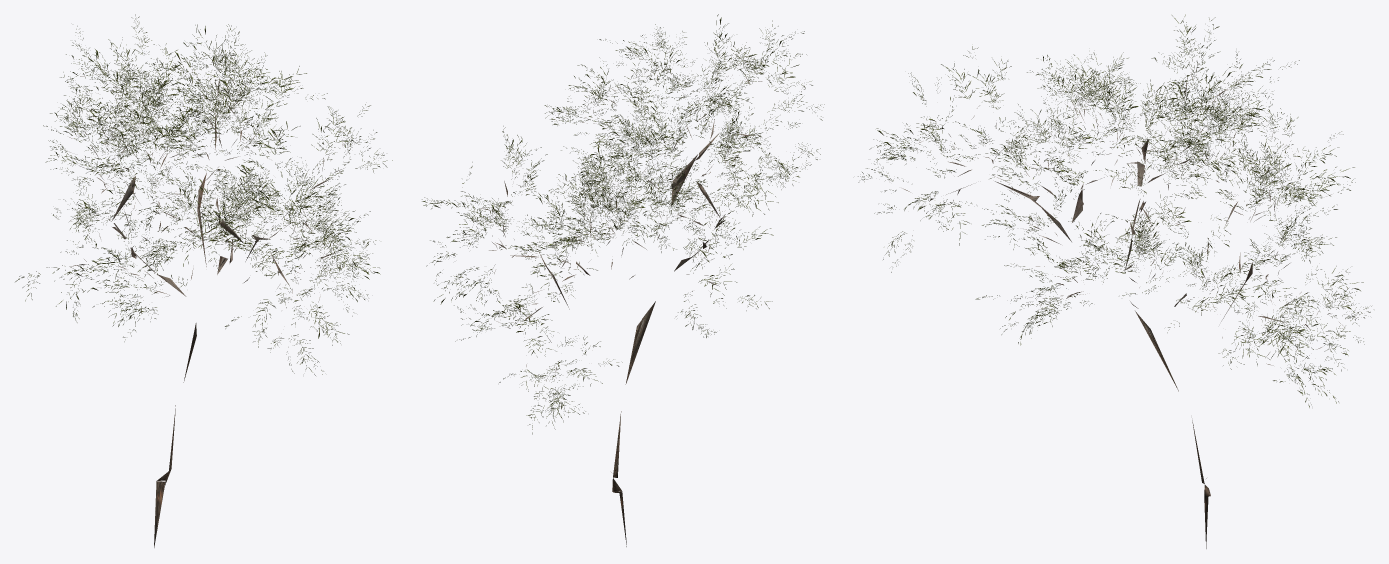
The model's file is tree_small_02_lod2.gltf.
3 views of the same model, side by side, from view 1: azimuth 30°, elevation 25°; view 2: azimuth 150°, elevation 25°; view 3: azimuth 270°, elevation 25° (orthographic). The views are drawn at different scales.
Parts seen in each view (by area): view 1: tree_small_02_lod2; view 2: tree_small_02_lod2; view 3: tree_small_02_lod2.
Boxes of the visible parts, x1=… form: tree_small_02_lod2: x1=15, y1=14, x2=392, y2=547; tree_small_02_lod2: x1=422, y1=14, x2=824, y2=546; tree_small_02_lod2: x1=858, y1=14, x2=1371, y2=548.
Bounding box in the file's own units: 2.87 × 4.5 × 4.27.
Materials: 3 (3 with a texture image).
